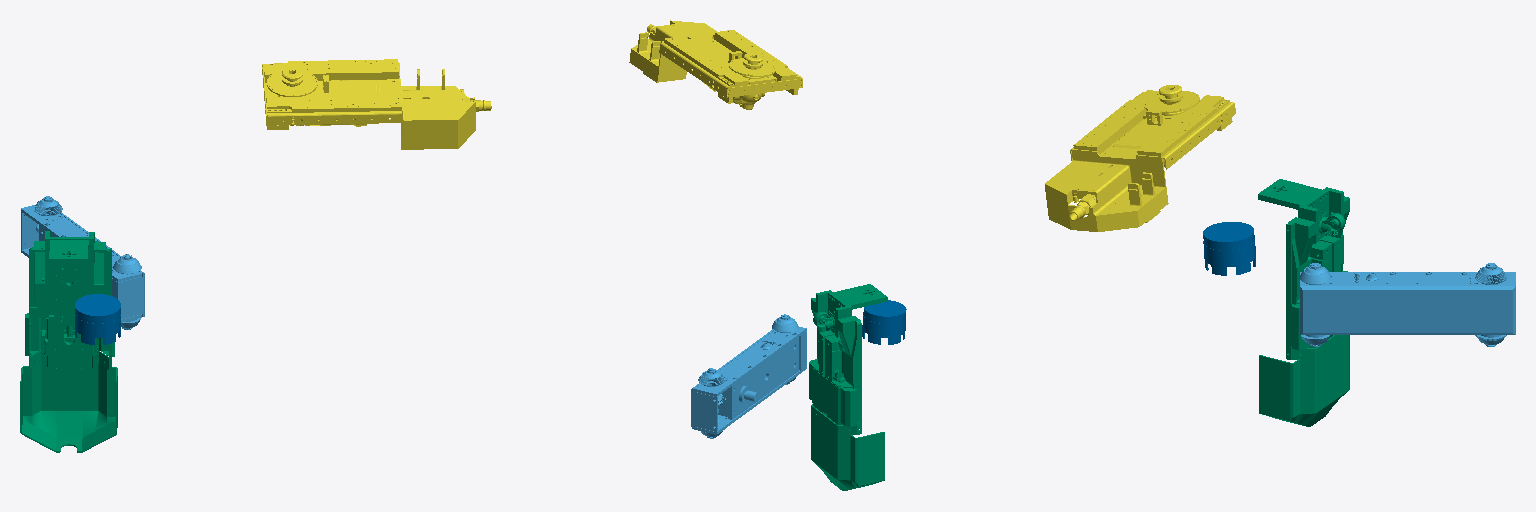
The robot description file, URDF, robot "robot_model_pipe_urdf2":
<?xml version='1.0' encoding='utf-8'?>
<robot name="robot_model_pipe_urdf2">
    <link name="base_link">
        <inertial>
            <origin xyz="-0.08000524560564413 -0.007972984731741753 0.16068191113442087" rpy="0.0 0.0 0.0" />
            <mass value="6.404211523653625" />
            <inertia ixx="0.10266211419491902" iyy="0.10869171850216136" izz="0.022092430795215078" ixy="0.00044364378384973866" iyz="0.0020389586029267593" ixz="0.0015064625885142235" />
        </inertial>
        <visual name="base_link_visual">
            <origin xyz="0.0 0.0 0.0" rpy="0.0 -0.0 0.0" />
            <geometry>
                <mesh filename="meshes/base_link.stl" scale="0.001 0.001 0.001" />
            </geometry>
        </visual>
        <collision name="base_link_collision">
            <origin xyz="0.0 0.0 0.0" rpy="0.0 -0.0 0.0" />
            <geometry>
                <mesh filename="meshes/base_link.stl" scale="0.001 0.001 0.001" />
            </geometry>
        </collision>
    </link>
    <link name="motor_module-v1">
        <inertial>
            <origin xyz="0.0036923576645462044 -0.032496696250331 0.2609558764668533" rpy="0.0 0.0 0.0" />
            <mass value="2.12584837391322" />
            <inertia ixx="0.027617267143901156" iyy="0.03003410896486873" izz="0.0037427927574618415" ixy="-4.2470266040352256e-05" iyz="-0.00039711763445315906" ixz="-0.0005510989600263361" />
        </inertial>
        <visual name="motor_module-v1_visual">
            <origin xyz="-0.07643936639457195 0.12076826386930549 -0.04432889747473297" rpy="0.0 -0.0 0.0" />
            <geometry>
                <mesh filename="meshes/motor_module-v1.stl" scale="0.001 0.001 0.001" />
            </geometry>
        </visual>
        <collision name="motor_module-v1_collision">
            <origin xyz="-0.07643936639457195 0.12076826386930549 -0.04432889747473297" rpy="0.0 -0.0 0.0" />
            <geometry>
                <mesh filename="meshes/motor_module-v1.stl" scale="0.001 0.001 0.001" />
            </geometry>
        </collision>
    </link>
    <link name="drilling_module1-v1">
        <inertial>
            <origin xyz="-0.22154651304561132 -0.3886489321893202 0.32644157055295325" rpy="0.0 0.0 0.0" />
            <mass value="1.3445614929447025" />
            <inertia ixx="0.016958563492912283" iyy="0.01812125366986008" izz="0.0026610000339055096" ixy="8.11839986300178e-05" iyz="-0.0010132053440028612" ixz="-6.81740529413282e-05" />
        </inertial>
        <visual name="drilling_module1-v1_visual">
            <origin xyz="0.14186326877966482 0.3351289369745858 -0.48607024567101753" rpy="1.3877787807814455e-17 3.3306690738754395e-16 -3.4694469516696206e-17" />
            <geometry>
                <mesh filename="meshes/drilling_module1-v1.stl" scale="0.001 0.001 0.001" />
            </geometry>
        </visual>
        <collision name="drilling_module1-v1_collision">
            <origin xyz="0.14186326877966482 0.3351289369745858 -0.48607024567101753" rpy="1.3877787807814455e-17 3.3306690738754395e-16 -3.4694469516696206e-17" />
            <geometry>
                <mesh filename="meshes/drilling_module1-v1.stl" scale="0.001 0.001 0.001" />
            </geometry>
        </collision>
    </link>
    <link name="drilling_module2-v1">
        <inertial>
            <origin xyz="-0.03452849725074354 -0.2811535770126149 0.1003054648298443" rpy="0.0 0.0 0.0" />
            <mass value="2.333803743488278" />
            <inertia ixx="0.02513628917902372" iyy="0.028359093376970762" izz="0.006335177246218047" ixy="-4.146239724544219e-05" iyz="-0.0027717409424386046" ixz="-0.00029071027812833244" />
        </inertial>
        <visual name="drilling_module2-v1_visual">
            <origin xyz="-0.038915866342732384 0.32427385872008757 -0.2853579923773535" rpy="0.0 -0.0 0.0" />
            <geometry>
                <mesh filename="meshes/drilling_module2-v1.stl" scale="0.001 0.001 0.001" />
            </geometry>
        </visual>
        <collision name="drilling_module2-v1_collision">
            <origin xyz="-0.038915866342732384 0.32427385872008757 -0.2853579923773535" rpy="0.0 -0.0 0.0" />
            <geometry>
                <mesh filename="meshes/drilling_module2-v1.stl" scale="0.001 0.001 0.001" />
            </geometry>
        </collision>
    </link>
    <link name="bit-v1">
        <inertial>
            <origin xyz="0.0014189740868361688 -3.3058982040756746e-09 -0.021916525333383615" rpy="-1.1479437019748901e-41 -1.0022062668174577e-54 0.0" />
            <mass value="0.4309811900088538" />
            <inertia ixx="0.00047961812974462413" iyy="0.00047890341856342907" izz="0.0006494039728564065" ixy="3.4260788650541083e-17" iyz="-5.616167253474024e-16" ixz="-1.1038960664577076e-05" />
        </inertial>
        <visual name="bit-v1_visual">
            <origin xyz="-0.0016152278538484222 -3.3060531201556386e-09 0.02494776999684538" rpy="-3.2982958874117803e-12 0.06465418758821853 3.1415926535897696" />
            <geometry>
                <mesh filename="meshes/bit-v1.stl" scale="0.001 0.001 0.001" />
            </geometry>
        </visual>
        <collision name="bit-v1_collision">
            <origin xyz="-0.0016152278538484222 -3.3060531201556386e-09 0.02494776999684538" rpy="-3.2982958874117803e-12 0.06465418758821853 3.1415926535897696" />
            <geometry>
                <mesh filename="meshes/bit-v1.stl" scale="0.001 0.001 0.001" />
            </geometry>
        </collision>
    </link>
    <joint name="スライダ-6" type="prismatic">
        <origin xyz="-4.162355926595751e-09 1.9535504147683014e-09 3.3064661764115044e-09" rpy="-1.5707963267949019 -1.5707963267948948 0" />
        <parent link="base_link" />
        <child link="motor_module-v1" />
        <axis xyz="1.9721522630525295e-31 1.0 4.4743890415810335e-31" />
        <limit lower="-0.02" upper="0.01" effort="1000000" velocity="1000000" />
    </joint>
    <joint name="回転-9" type="continuous">
        <origin xyz="-3.6590731156138646e-09 -2.784375716657905e-09 3.306465086172494e-09" rpy="-2.2343099385599563e-15 -2.3328479519982528e-14 2.660087448615031" />
        <parent link="base_link" />
        <child link="drilling_module1-v1" />
        <axis xyz="0.0 -1.5777218104420236e-30 1.0" />
    </joint>
    <joint name="スライダ-11" type="prismatic">
        <origin xyz="-0.12650000330647526 0.08700000391631002 -0.0839999997538062" rpy="1.5707963267948961 0.06465418758820993 1.5707963267949216" />
        <parent link="drilling_module1-v1" />
        <child link="drilling_module2-v1" />
        <axis xyz="0.064609 -0.9979109999999999 1.384879710905847e-17" />
        <limit lower="-0.035765" upper="0.018621" effort="1000000" velocity="1000000" />
    </joint>
    <joint name="回転-12" type="continuous">
        <origin xyz="-3.305970626144017e-09 -3.776706414271303e-09 1.2131364091061413e-09" rpy="3.141592653589425 1.506142139206677 -1.5707963267919718" />
        <parent link="drilling_module2-v1" />
        <child link="bit-v1" />
        <axis xyz="0.064609 -7.923443788400032e-26 -0.9979110000000002" />
    </joint>
</robot>

--- Facts derived from the render (not from the file) ---
Views: 3 orthographic renders of the robot side by side, from view 1: azimuth 30°, elevation 25°; view 2: azimuth 150°, elevation 25°; view 3: azimuth 270°, elevation 25°.
Robot: robot_model_pipe_urdf2 — 5 links, 4 joints (2 continuous, 2 prismatic); root link base_link; default pose: every joint at zero.
Links seen in each view (by area): view 1: drilling_module1-v1, drilling_module2-v1, motor_module-v1, bit-v1; view 2: drilling_module1-v1, drilling_module2-v1, motor_module-v1, bit-v1; view 3: drilling_module2-v1, motor_module-v1, drilling_module1-v1, bit-v1.
Link boxes in pixels (left/top/right/bottom): drilling_module1-v1: left=20, top=231, right=117, bottom=452; drilling_module2-v1: left=262, top=59, right=491, bottom=149; motor_module-v1: left=21, top=196, right=144, bottom=329; bit-v1: left=75, top=294, right=120, bottom=344; drilling_module1-v1: left=809, top=284, right=887, bottom=490; drilling_module2-v1: left=629, top=20, right=802, bottom=109; motor_module-v1: left=691, top=314, right=806, bottom=438; bit-v1: left=862, top=300, right=906, bottom=344; drilling_module2-v1: left=1045, top=85, right=1235, bottom=231; motor_module-v1: left=1300, top=263, right=1515, bottom=346; drilling_module1-v1: left=1258, top=179, right=1349, bottom=426; bit-v1: left=1203, top=222, right=1255, bottom=275.
Size in the robot's own frame: 0.7816 by 0.7916 by 0.7777 metres.
4 mesh visuals loaded from 5 distinct referenced files (4 binary STL); not drawn: 1 (reference not matched to a file when rendering).
